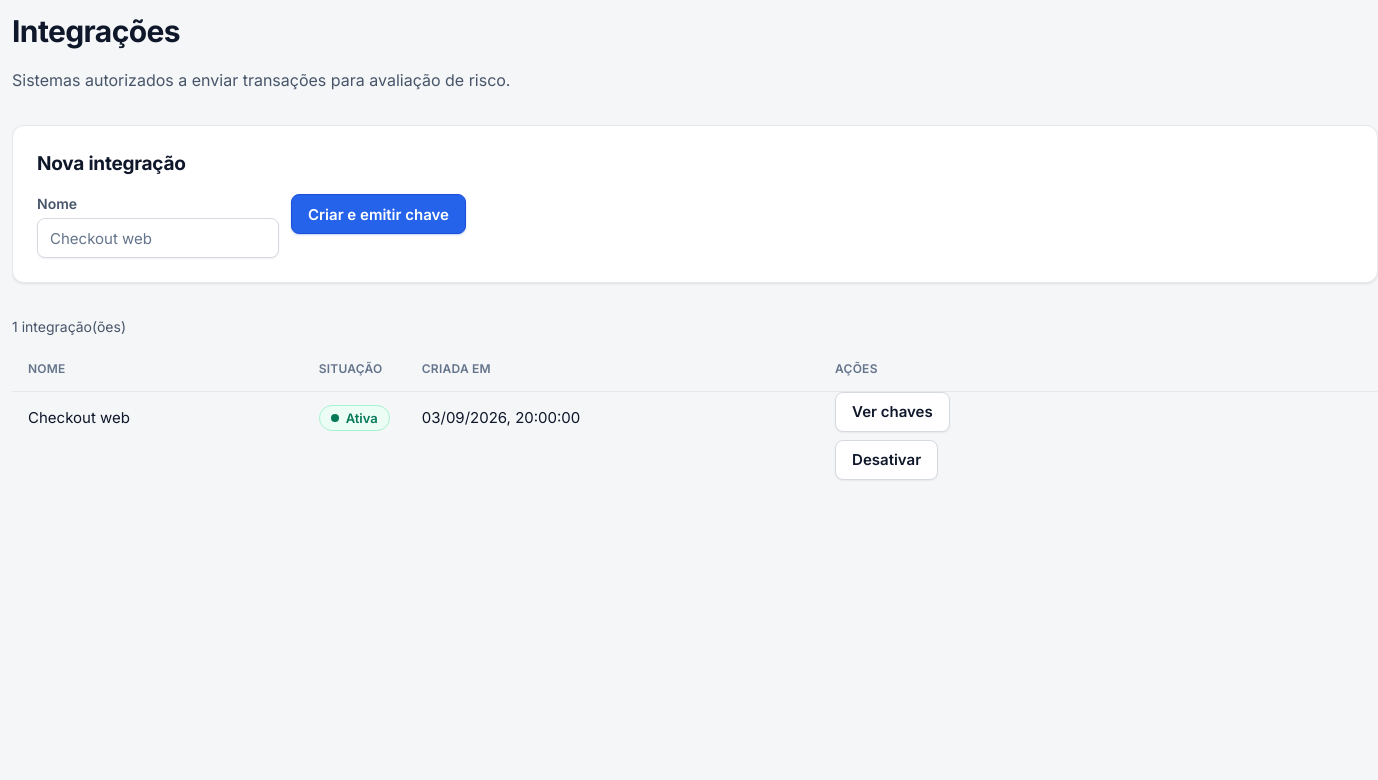
Scenario: PaginaDeIntegracoes › a listagem de credenciais mostra o identificador público e nunca o segredo
Expected: the column heading "Checkout web" is shown, x1=12 y1=391 x2=303 y2=444
Click the button "Ver chaves" at (892, 412), box x1=835 y1=392 x2=950 y2=432
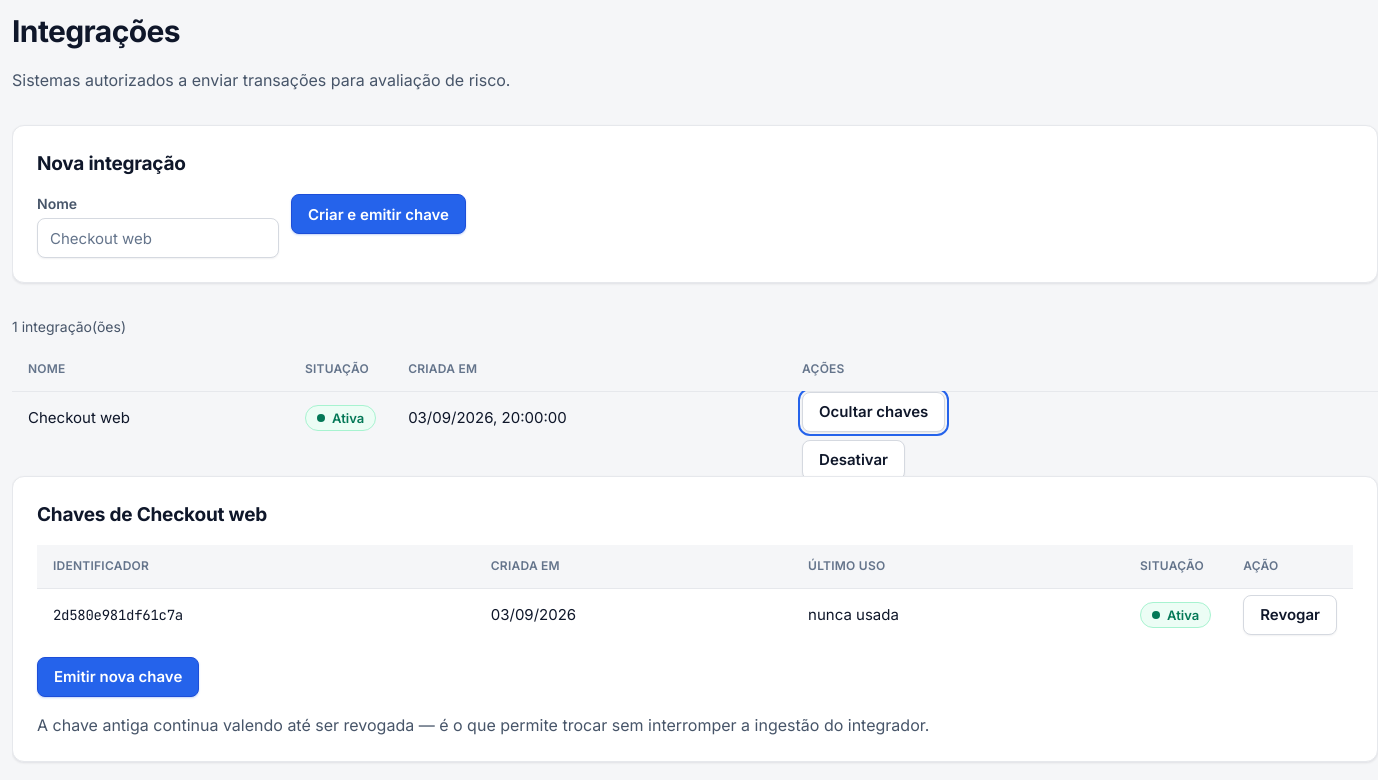
Now the column heading "2d580e981df61c7a" is shown, box x1=37 y1=588 x2=475 y2=640
Now the text "nunca usada" is shown, box x1=792 y1=588 x2=1124 y2=640
